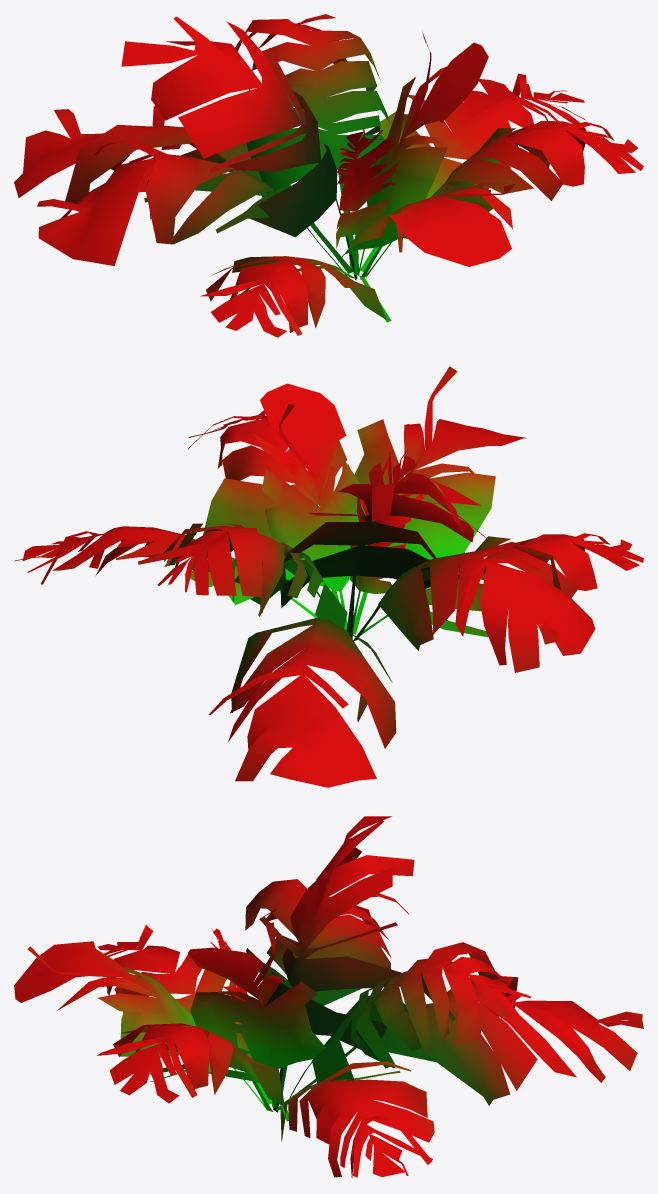
The model's file is Var2_LOD2.fbx.
3 views of the same model, one above another, from view 1: azimuth 30°, elevation 25°; view 2: azimuth 150°, elevation 25°; view 3: azimuth 270°, elevation 25° (orthographic). The views are drawn at different scales.
Parts seen in each view (by area): view 1: _1f28_Var2_LOD2; view 2: _1f28_Var2_LOD2; view 3: _1f28_Var2_LOD2.
Boxes of the visible parts, box(x1,y1,x2,y2) form: _1f28_Var2_LOD2: box(14, 14, 643, 337); _1f28_Var2_LOD2: box(14, 366, 643, 787); _1f28_Var2_LOD2: box(14, 816, 643, 1178).
Size of the model in its own units: 259 by 111 by 267.
